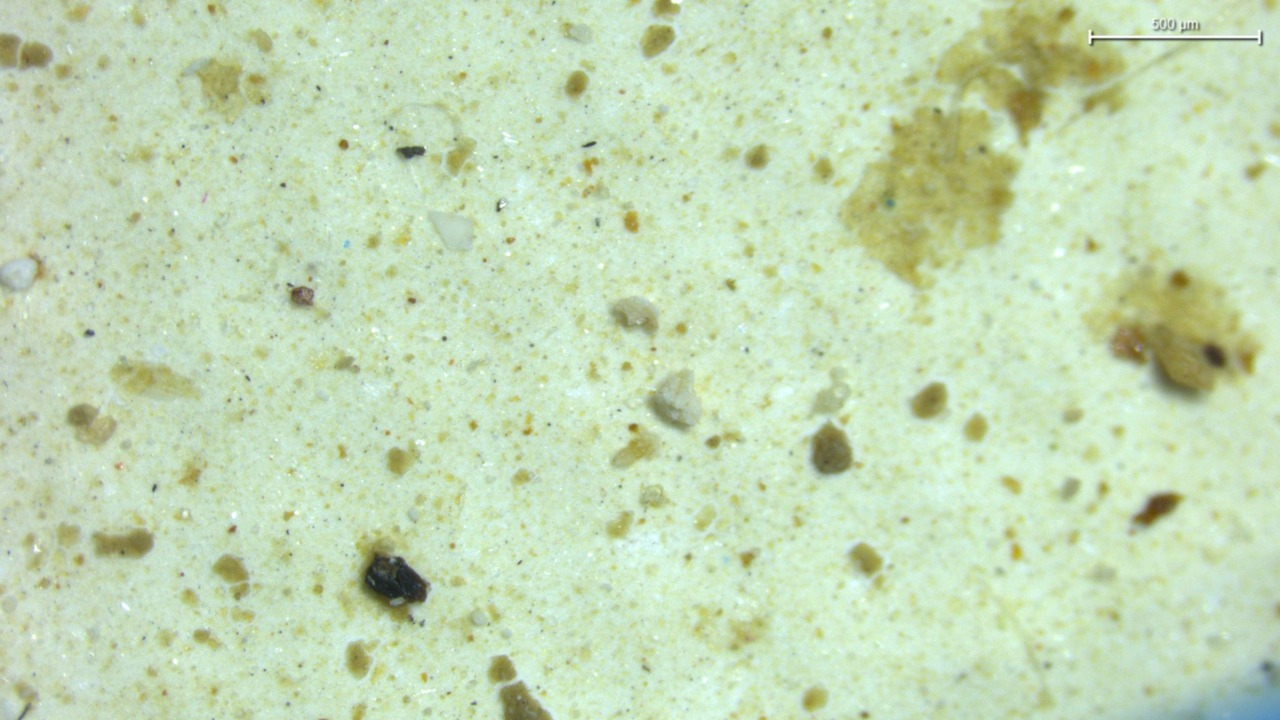microplastic_fragment: (649, 369, 702, 428), (609, 297, 658, 333), (428, 211, 473, 249)
